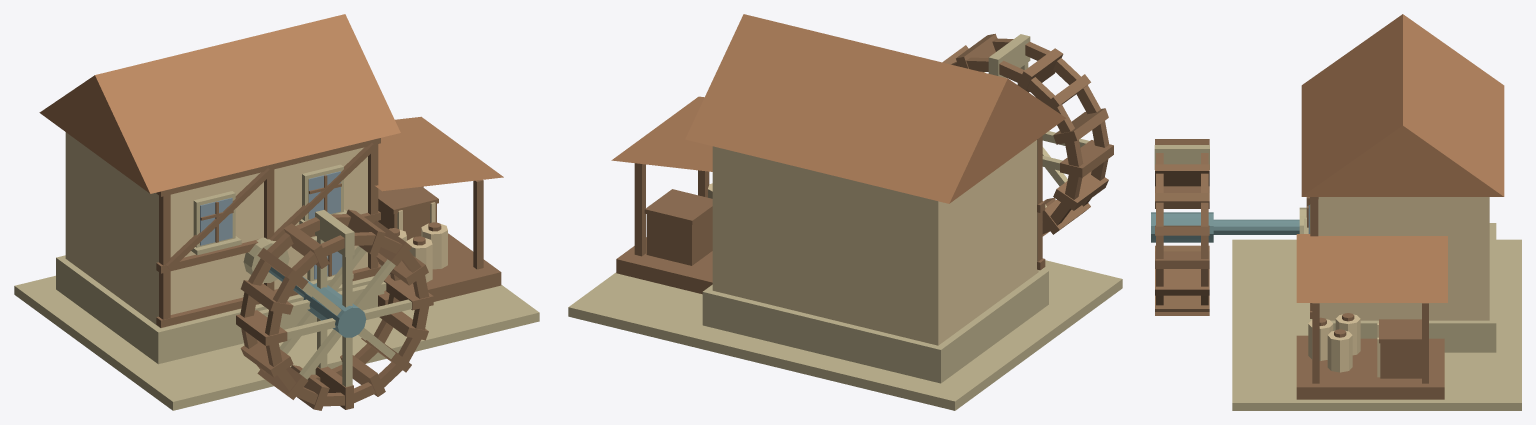
File: era2-river-mill-BDOXo_oE.glb
3 views of the same model, side by side, from view 1: azimuth 30°, elevation 25°; view 2: azimuth 150°, elevation 25°; view 3: azimuth 270°, elevation 25° (orthographic). The views are drawn at different scales.
Parts seen in each view (by area): view 1: RM_GabledRoof, RM_Wheel, RM_Millhouse, RM_Yard, RM_StoneBase, RM_PorchRoof, RM_LoadingPorch, RM_TimberPost, RM_TimberRail.002, RM_TimberRail, RM_Brace, RM_FlourChestLid (+13 smaller); view 2: RM_Millhouse, RM_GabledRoof, RM_Yard, RM_StoneBase, RM_Wheel, RM_PorchRoof, RM_FlourChestBody, RM_LoadingPorch, RM_FlourChestLid, RM_PorchPost, RM_TimberPost; view 3: RM_GabledRoof, RM_Yard, RM_Millhouse, RM_PorchRoof, RM_Wheel, RM_LoadingPorch, RM_StoneBase, RM_FlourChestBody, RM_Axle, RM_FlourChestLid, RM_FlourSack.001, RM_PorchPost.001 (+4 smaller).
Boxes of the visible parts, <box> form: RM_GabledRoof: <box>39,14,400,193</box>; RM_Wheel: <box>236,209,433,410</box>; RM_Millhouse: <box>65,132,373,328</box>; RM_Yard: <box>14,275,539,410</box>; RM_StoneBase: <box>56,255,384,364</box>; RM_PorchRoof: <box>375,116,503,191</box>; RM_LoadingPorch: <box>378,233,501,306</box>; RM_TimberPost: <box>159,194,170,319</box>; RM_TimberRail.002: <box>156,138,380,196</box>; RM_TimberRail: <box>156,265,380,327</box>; RM_Brace: <box>165,168,272,269</box>; RM_FlourChestLid: <box>378,186,438,213</box>; RM_Millhouse: <box>712,140,1038,345</box>; RM_GabledRoof: <box>685,14,1065,203</box>; RM_Yard: <box>568,260,1122,410</box>; RM_StoneBase: <box>702,269,1048,383</box>; RM_Wheel: <box>942,33,1113,236</box>; RM_PorchRoof: <box>611,96,712,171</box>; RM_FlourChestBody: <box>646,210,712,265</box>; RM_LoadingPorch: <box>616,237,712,294</box>; RM_FlourChestLid: <box>644,189,712,224</box>; RM_PorchPost: <box>634,163,645,256</box>; RM_TimberPost: <box>1037,136,1042,261</box>; RM_GabledRoof: <box>1301,14,1504,196</box>; RM_Yard: <box>1232,239,1521,410</box>; RM_Millhouse: <box>1318,197,1489,320</box>; RM_PorchRoof: <box>1296,234,1447,302</box>; RM_Wheel: <box>1151,139,1213,315</box>; RM_LoadingPorch: <box>1296,335,1444,399</box>; RM_StoneBase: <box>1309,223,1496,352</box>; RM_FlourChestBody: <box>1380,343,1421,378</box>; RM_Axle: <box>1213,219,1299,234</box>; RM_FlourChestLid: <box>1379,319,1421,343</box>; RM_FlourSack.001: <box>1327,331,1352,372</box>; RM_PorchPost.001: <box>1312,303,1319,383</box>.
Size of the model in its own units: 12 by 8.25 by 11.53.
